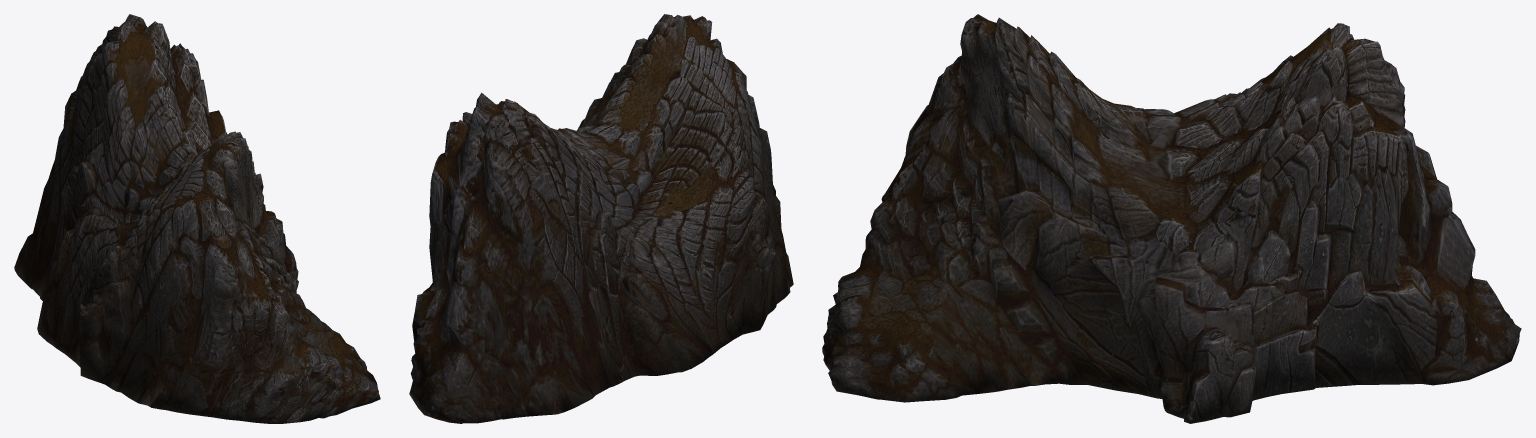
Rendered from Rock_01_Split_Peaks_LOD1.fbx.
3 views of the same model, side by side, from view 1: azimuth 30°, elevation 25°; view 2: azimuth 150°, elevation 25°; view 3: azimuth 270°, elevation 25° (orthographic). The views are drawn at different scales.
Parts seen in each view (by area): view 1: Rock_01_Split_Peaks_LOD1; view 2: Rock_01_Split_Peaks_LOD1; view 3: Rock_01_Split_Peaks_LOD1.
Boxes of the visible parts, x1,y1,x2,y2 form: Rock_01_Split_Peaks_LOD1: [14, 14, 380, 423]; Rock_01_Split_Peaks_LOD1: [409, 14, 793, 423]; Rock_01_Split_Peaks_LOD1: [822, 14, 1521, 423].
Bounding box in the file's own units: 61.63 × 56.83 × 109.
